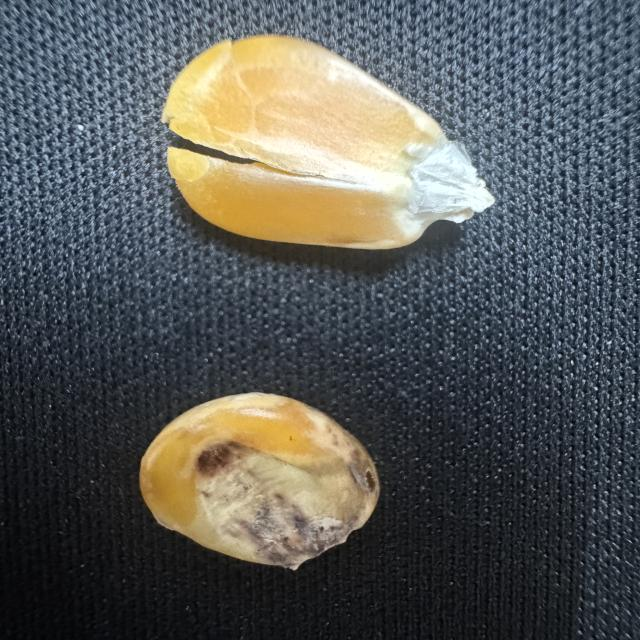Bad-Seed: (146, 24, 504, 271), (132, 384, 390, 586)
